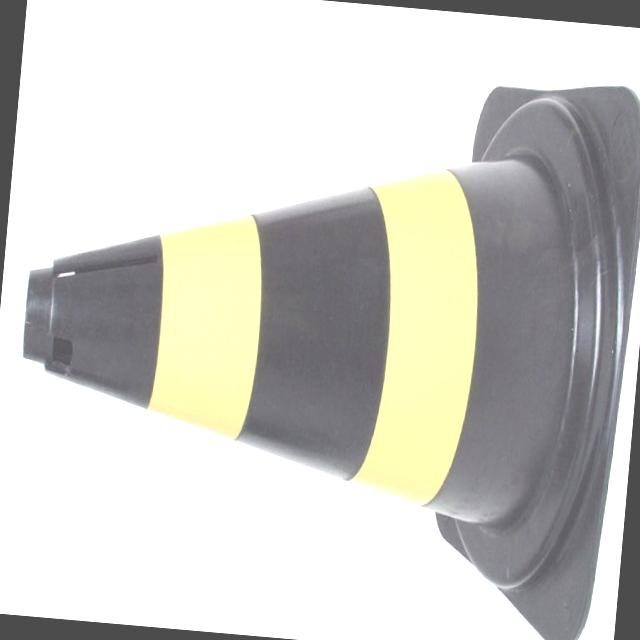cone: (10, 120, 618, 547)
